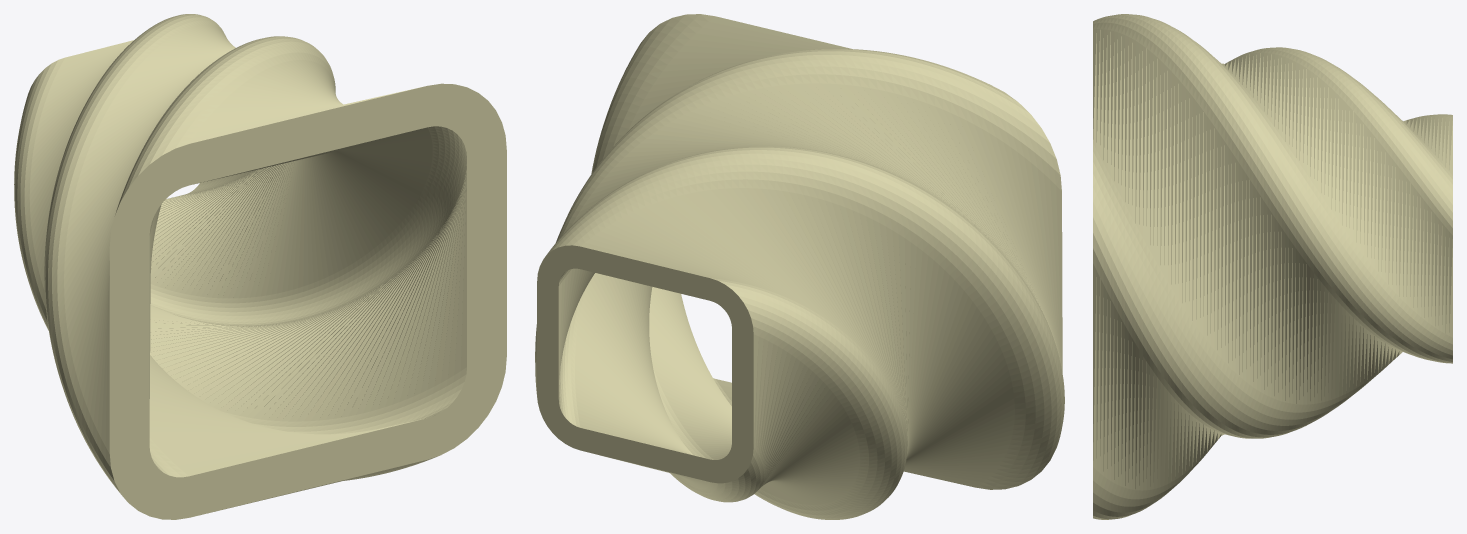
File: extrude_transforming.glb
The picture shows the model from 3 angles, left to right: view 1: azimuth 30°, elevation 25°; view 2: azimuth 150°, elevation 25°; view 3: azimuth 270°, elevation 25°; orthographic projection. The views are drawn at different scales.
Visible parts, largest first — view 1: world; view 2: world; view 3: world.
Part boxes in pixels (x1,y1,x2,y2): world: [14, 14, 506, 519]; world: [535, 14, 1064, 519]; world: [1093, 14, 1452, 519].
Size of the model in its own units: 21.58 by 20.89 by 16.
